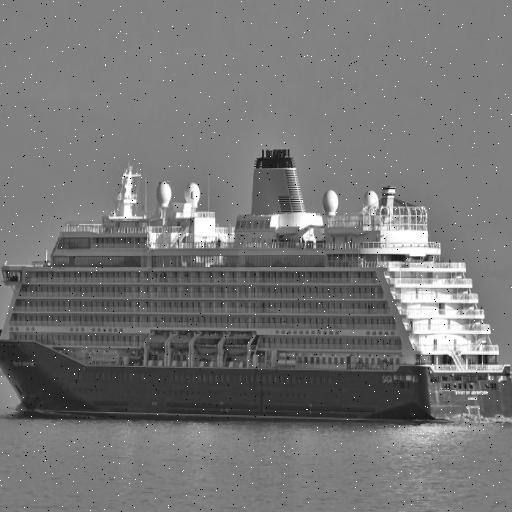cruises: (1, 145, 512, 431)
